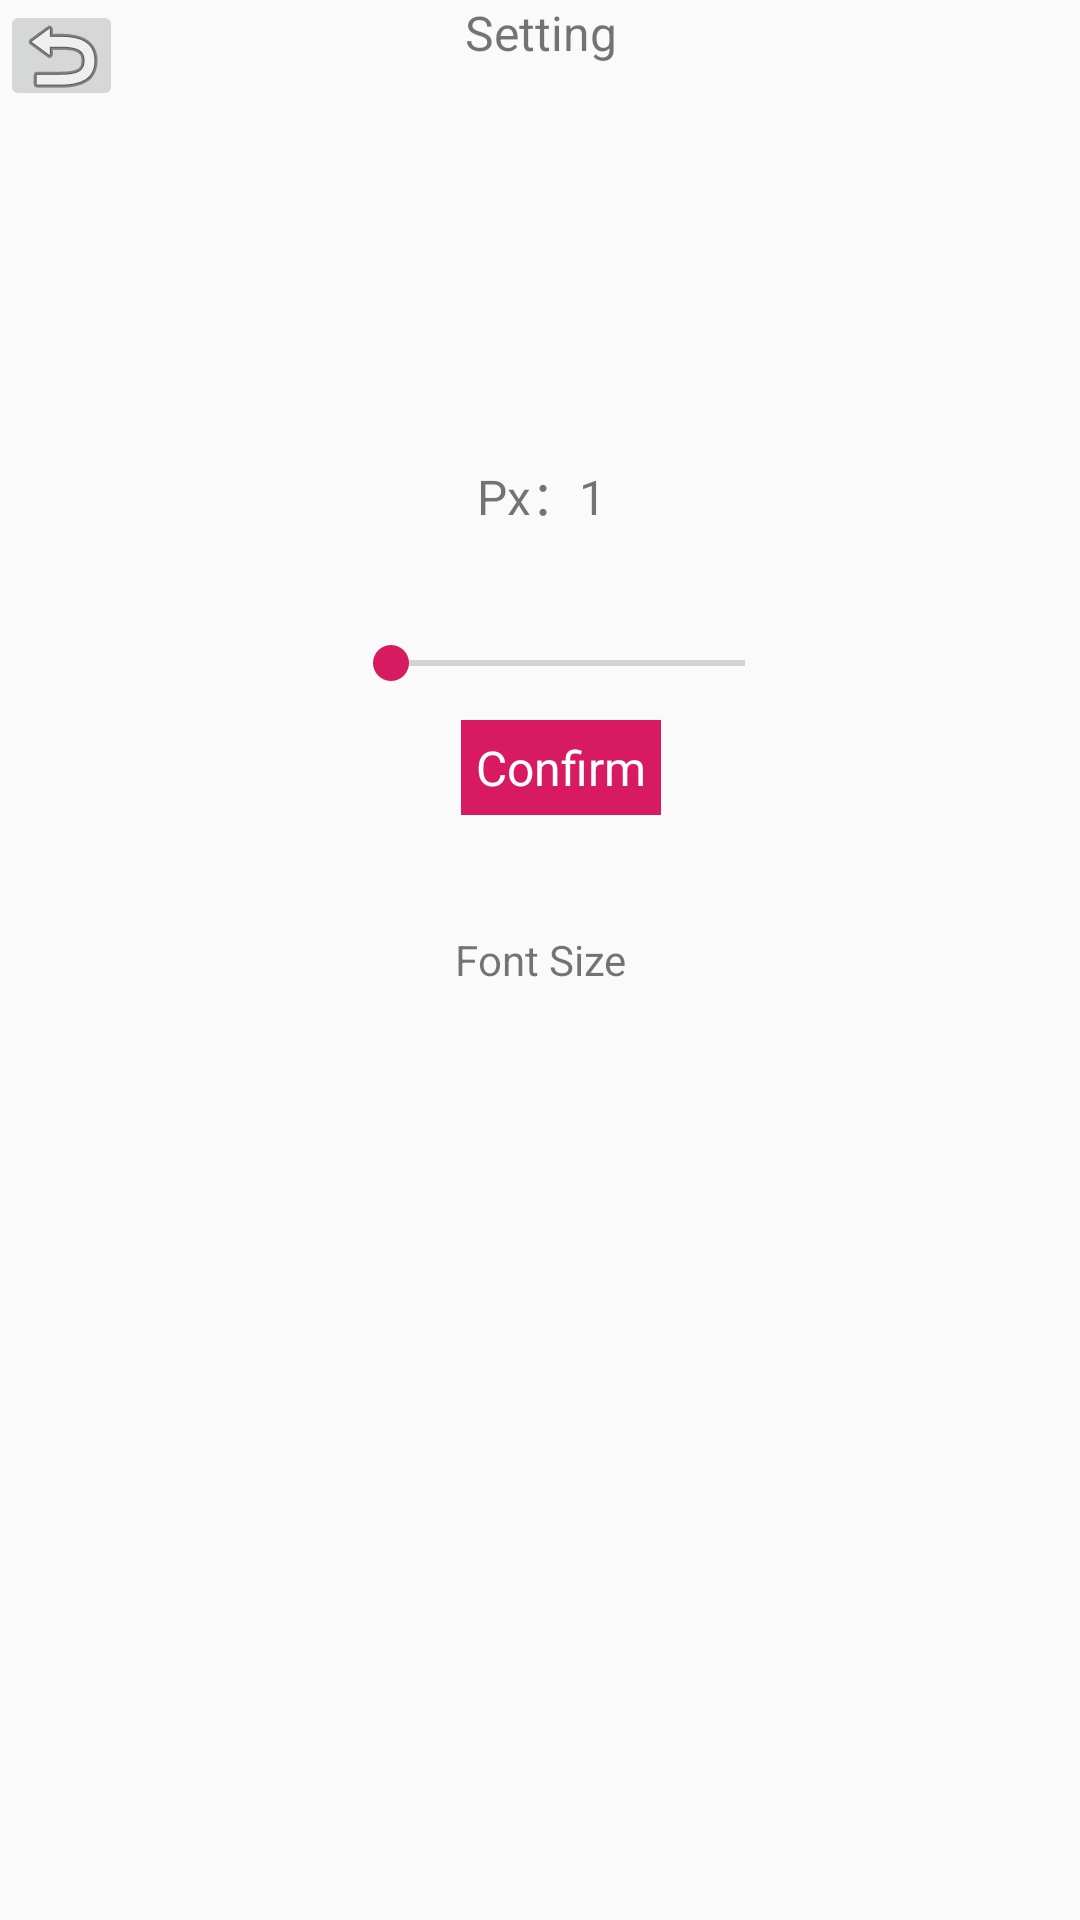

Where to tap for icons on this 1080px×1920px app screen, as (x,y):
revert: (61,55)
